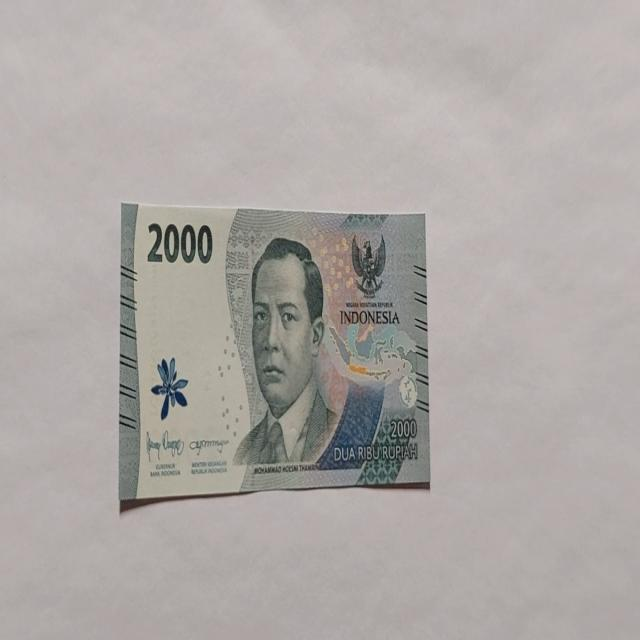dua ribu rupiah: (118, 201, 430, 507), (232, 235, 340, 473)
